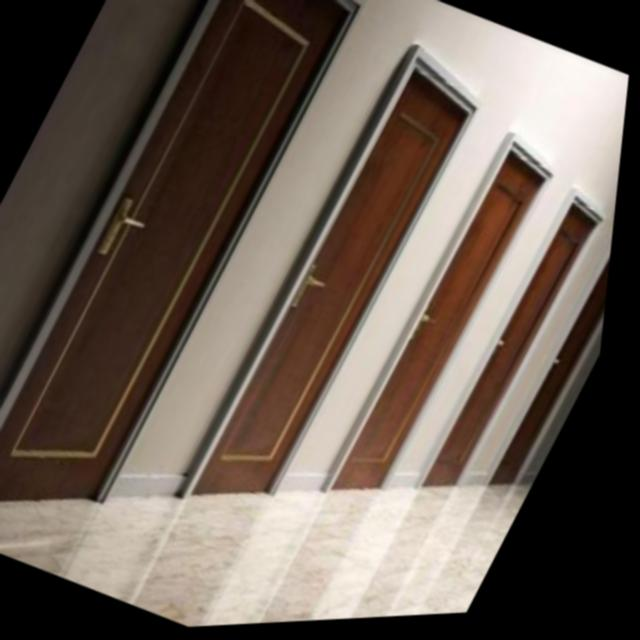door_handle: (112, 205, 162, 243), (302, 273, 346, 307), (425, 315, 454, 341)
